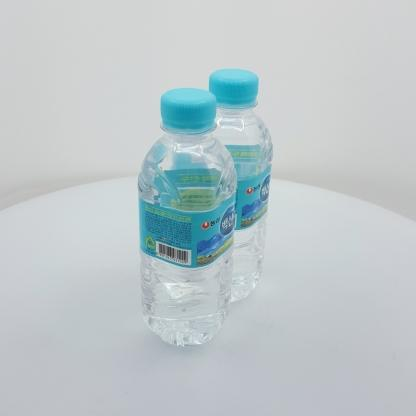-----330ML: (137, 88, 237, 347), (190, 68, 273, 302)
